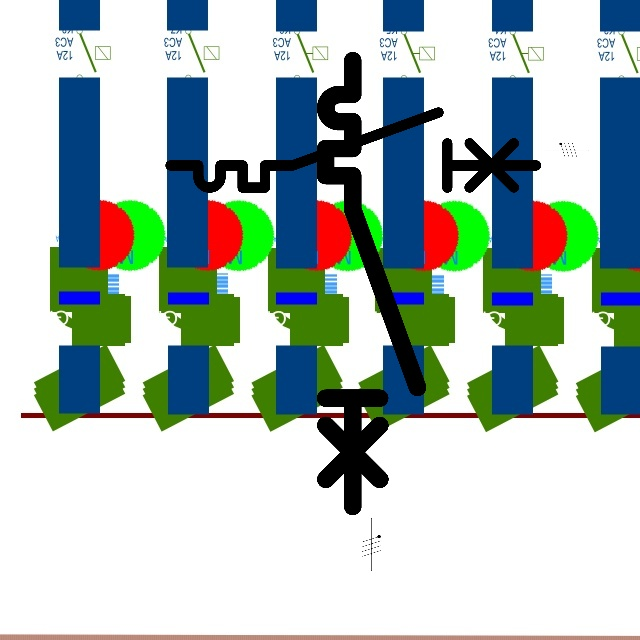interruptor_termomagnetico: (314, 49, 428, 517), (161, 103, 545, 197)
